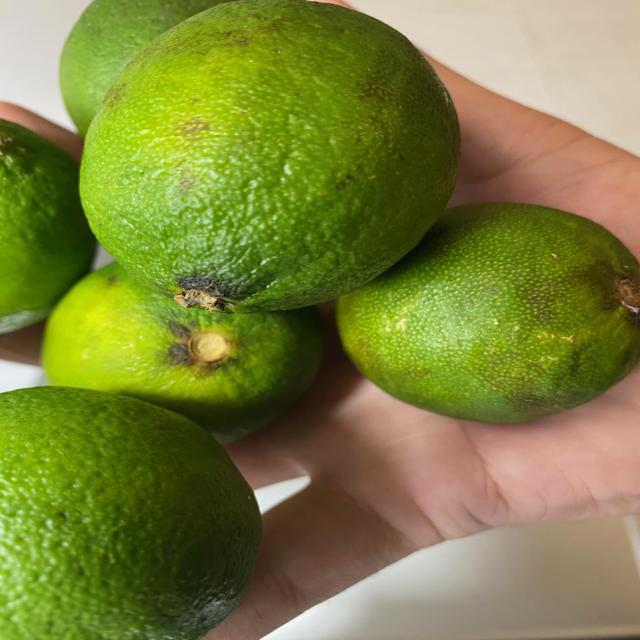lemon: (0, 9, 616, 640)
